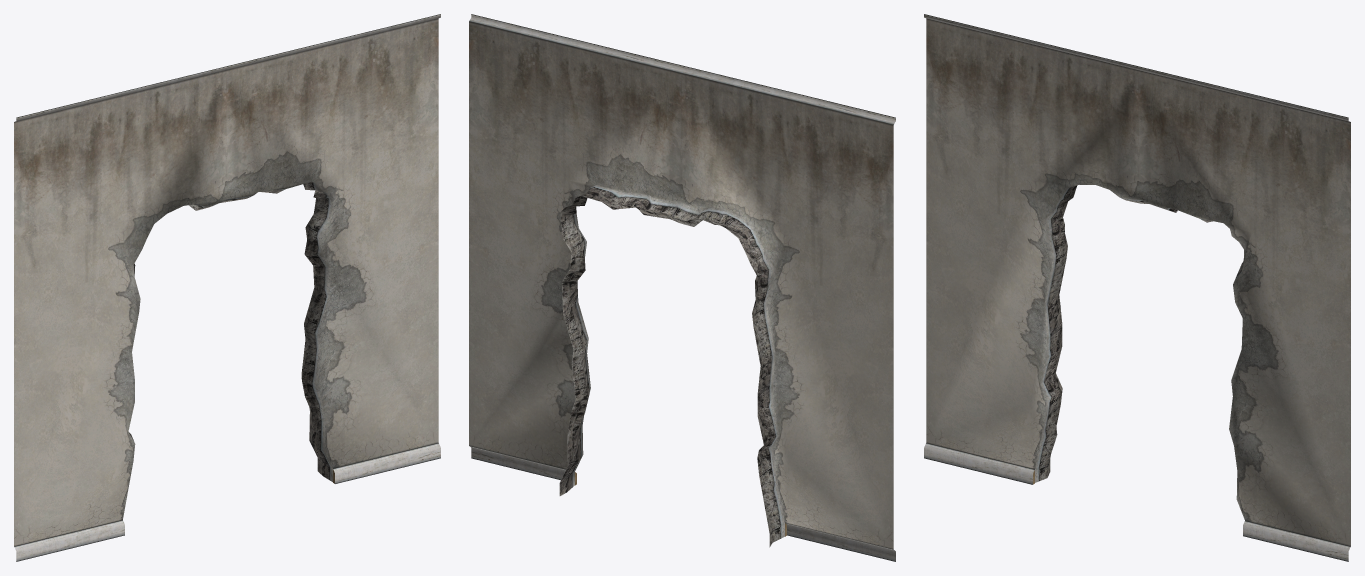
Rendered from livingroom_damaged_hole_door.dae.
The picture shows the model from 3 angles, left to right: view 1: azimuth 30°, elevation 25°; view 2: azimuth 150°, elevation 25°; view 3: azimuth 330°, elevation 25°; orthographic projection.
Visible parts, largest first — view 1: polySurface507, polySurface510; view 2: polySurface507, polySurface510; view 3: polySurface507, polySurface510.
Part boxes in pixels (bbox=[...]): polySurface507: bbox=[14, 18, 438, 546]; polySurface510: bbox=[14, 14, 440, 561]; polySurface507: bbox=[469, 21, 893, 549]; polySurface510: bbox=[469, 14, 895, 561]; polySurface507: bbox=[926, 18, 1350, 546]; polySurface510: bbox=[924, 14, 1350, 561].
Size of the model in its own units: 4 by 4 by 0.2841.
